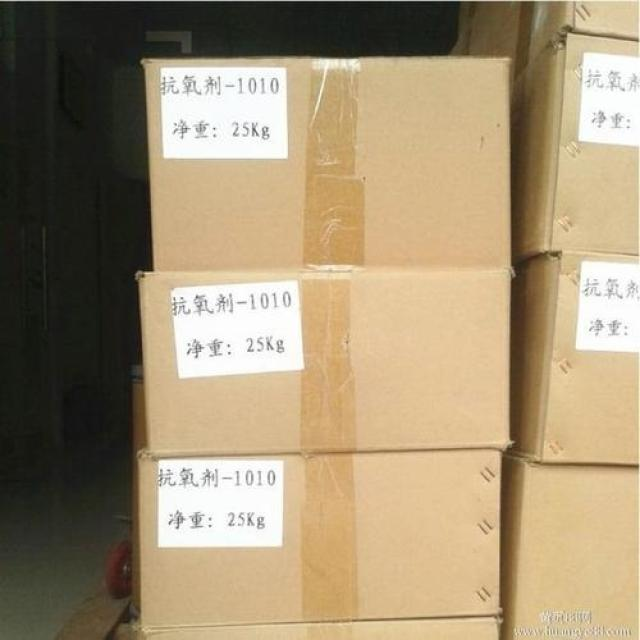box: (142, 55, 512, 270), (137, 269, 511, 457), (136, 451, 503, 631), (512, 32, 640, 265), (513, 253, 640, 466), (504, 456, 640, 640)
